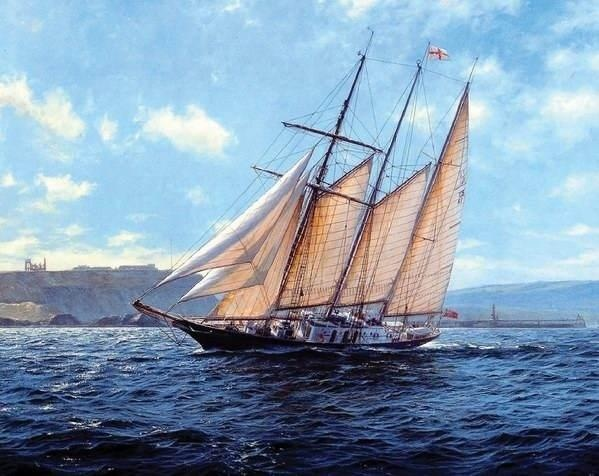fanchuan: (131, 25, 501, 355)
